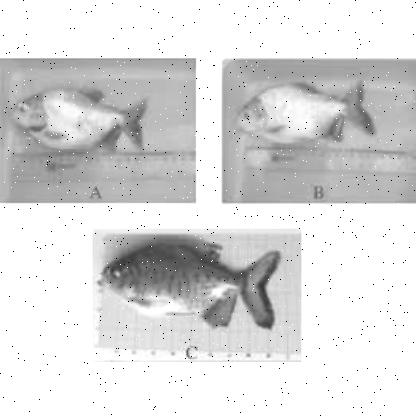ikan-pacu: (100, 240, 278, 320), (234, 80, 368, 146), (10, 87, 146, 152)
